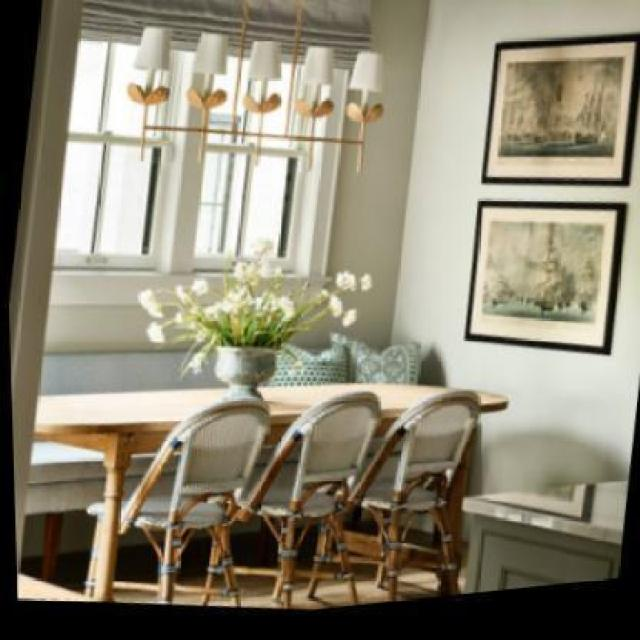tables: (28, 382, 509, 602)
